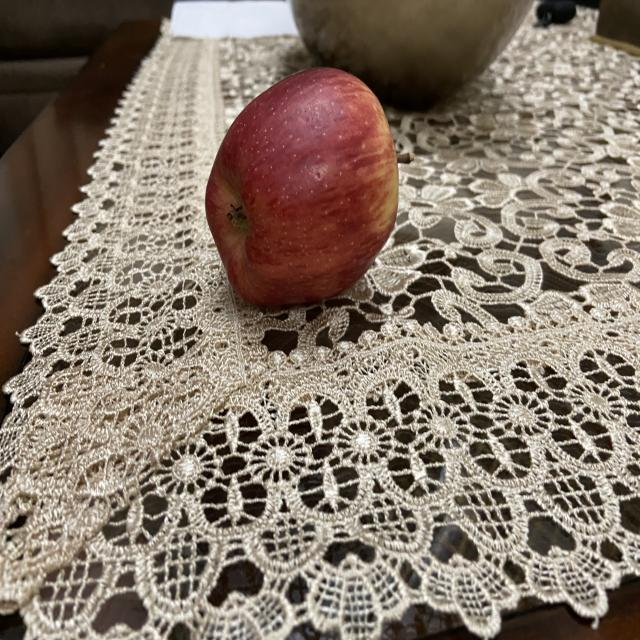apple: (201, 66, 400, 306)
